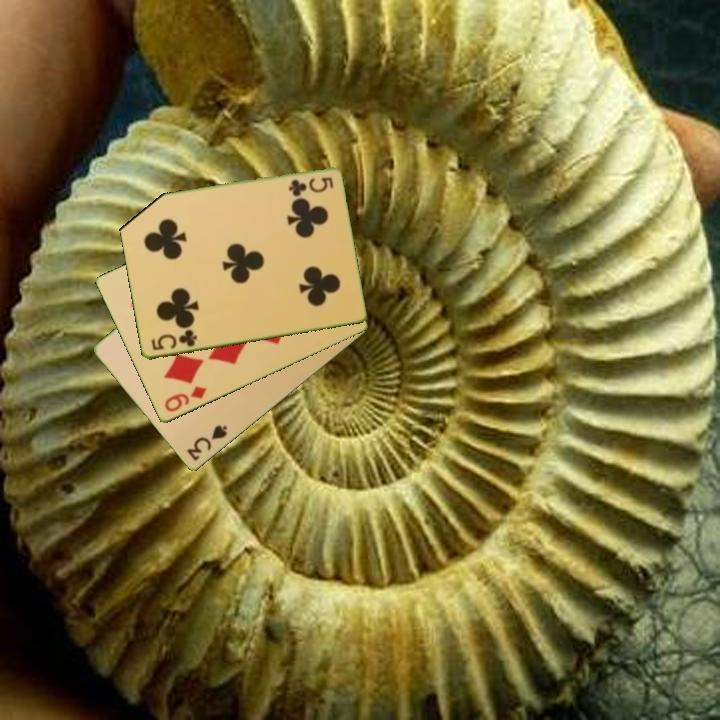3s: (183, 422, 230, 464)
5c: (148, 326, 200, 354), (285, 174, 336, 197)
9d: (161, 383, 210, 415)
